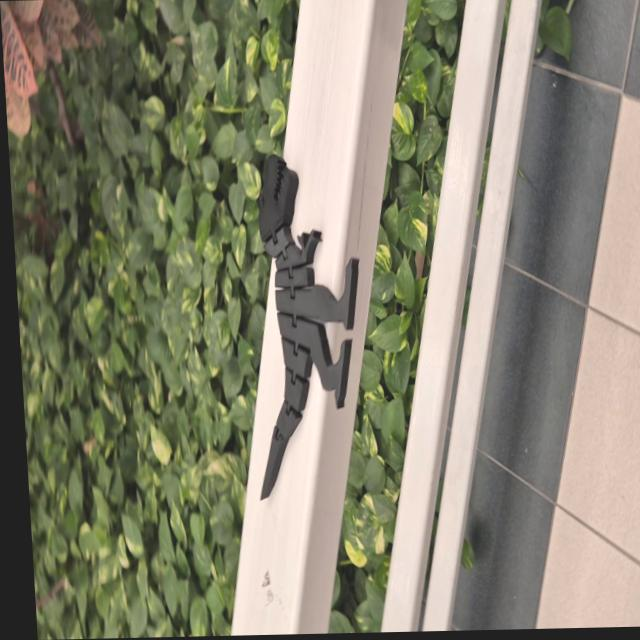dino: (238, 150, 375, 500)
